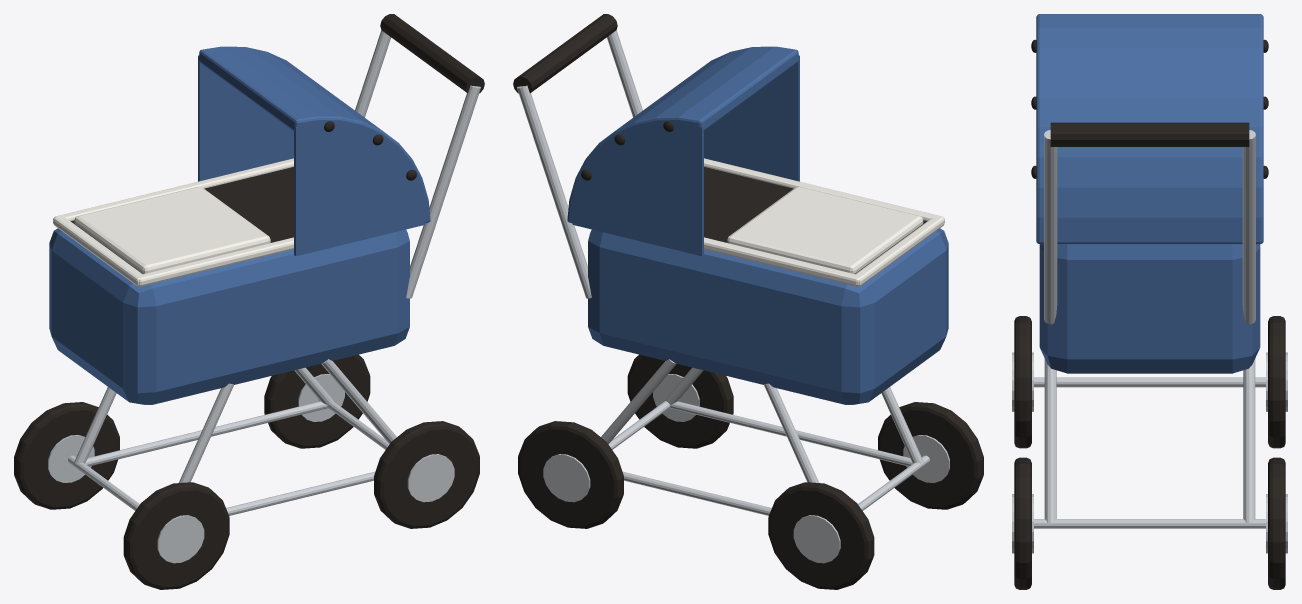
Rendered from hh_cat_pram.glb.
The picture shows the model from 3 angles, left to right: view 1: azimuth 30°, elevation 25°; view 2: azimuth 150°, elevation 25°; view 3: azimuth 270°, elevation 25°; orthographic projection. The views are drawn at different scales.
Parts seen in each view (by area): view 1: body, hood.001, blanket, hood, wheel, wheel.002, hood.002, wheel.001, wheel.003, opening, handle, handle_grip (+15 smaller); view 2: body, hood.002, blanket, hood, wheel.001, wheel.003, hood.001, wheel, wheel.002, opening, handle.001, handle_grip (+15 smaller); view 3: hood, body, handle_grip, handle, handle.001, wheel, wheel.001, wheel.002, wheel.003, axle, axle.001, frame.001 (+1 smaller).
Boxes of the visible parts, x1,y1,x2,y2 form: body: [49, 228, 409, 404]; hood.001: [294, 124, 425, 256]; blanket: [74, 187, 270, 273]; hood: [199, 46, 430, 223]; wheel: [123, 482, 229, 589]; wheel.002: [374, 421, 479, 528]; hood.002: [198, 55, 293, 181]; wheel.001: [14, 402, 119, 509]; wheel.003: [264, 354, 370, 448]; opening: [71, 167, 293, 273]; handle: [406, 85, 480, 298]; handle_grip: [380, 14, 484, 93]; body: [588, 228, 948, 404]; hood.002: [572, 124, 703, 256]; blanket: [727, 187, 923, 273]; hood: [567, 46, 798, 223]; wheel.001: [768, 482, 874, 589]; wheel.003: [518, 421, 623, 528]; hood.001: [704, 55, 799, 181]; wheel: [878, 402, 983, 509]; wheel.002: [627, 354, 733, 448]; opening: [704, 167, 926, 273]; handle.001: [517, 85, 591, 298]; handle_grip: [513, 14, 617, 93]; hood: [1036, 14, 1263, 244]; body: [1039, 244, 1260, 373]; handle_grip: [1050, 122, 1249, 146]; handle: [1044, 130, 1057, 324]; handle.001: [1242, 130, 1255, 324]; wheel: [1014, 316, 1031, 448]; wheel.001: [1268, 316, 1285, 448]; wheel.002: [1014, 457, 1031, 589]; wheel.003: [1268, 457, 1285, 589]; axle: [1034, 377, 1265, 387]; axle.001: [1034, 519, 1265, 528]; frame.001: [1044, 359, 1056, 522].
Bounding box in the file's own units: 0.9 × 1 × 0.5.
